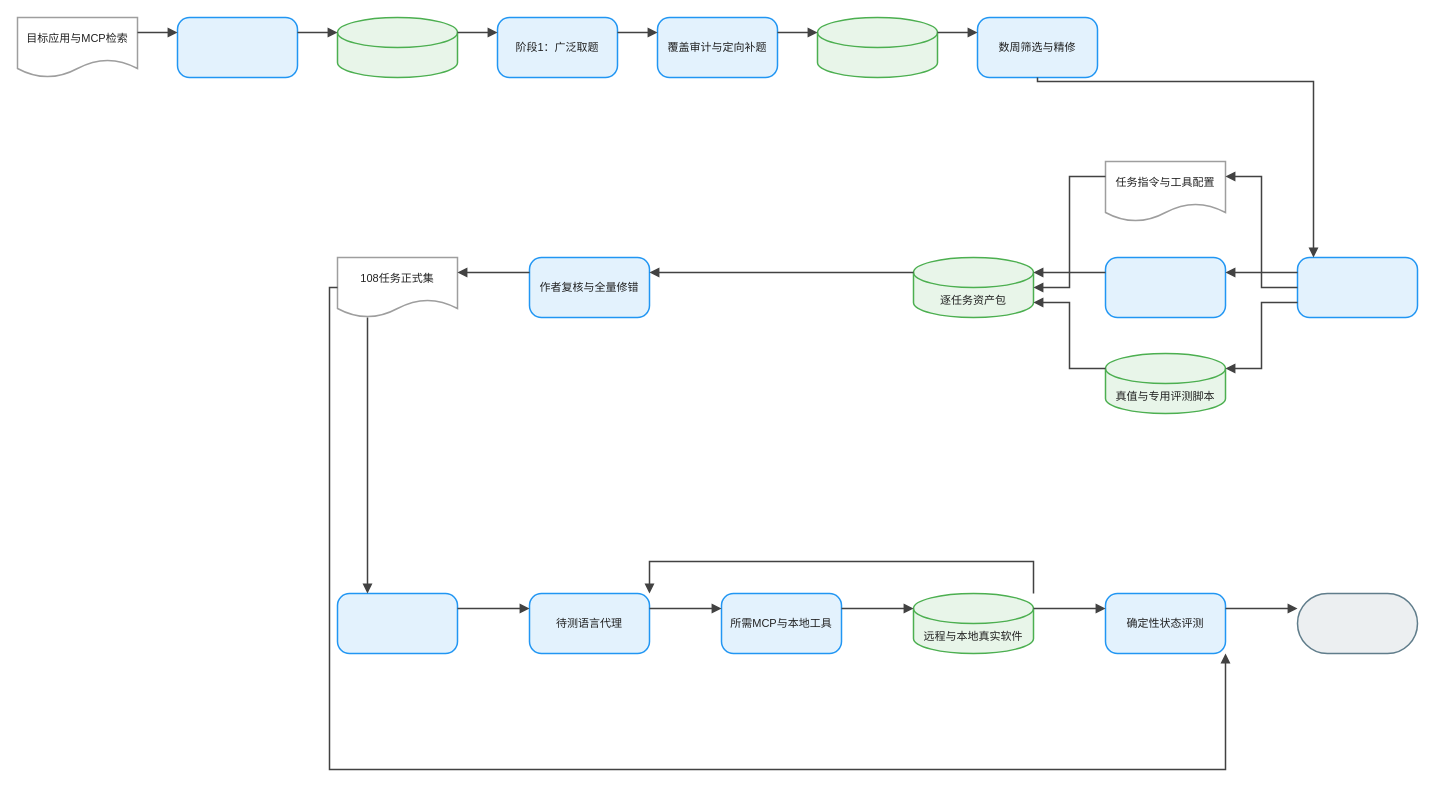
Image size: 1436x796. Some labels were removed from this diagram. Here are the shapes that lost their labels. From the top down, the box of each, then its label:
(176, 16, 298, 78): 修订或自研服务器
(336, 16, 458, 78): 32应用 · 604工具
(816, 16, 938, 78): 真实模糊任务池
(1104, 256, 1226, 318): 初始工作区与重置脚本
(1296, 256, 1418, 318): 逐任务实现 4–6小时
(336, 592, 458, 654): 容器隔离与状态初始化
(1296, 592, 1418, 654): 三类通过率
